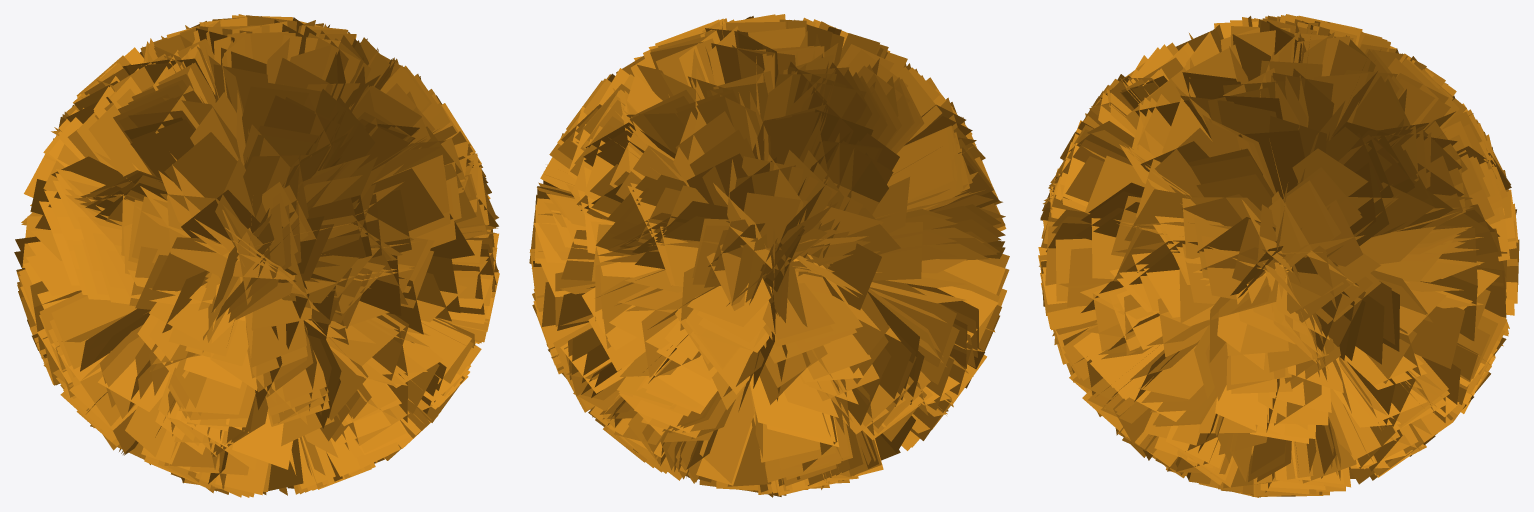
Rendered from testPipoUnity2.fbx.
3 views of the same model, side by side, from view 1: azimuth 30°, elevation 25°; view 2: azimuth 150°, elevation 25°; view 3: azimuth 270°, elevation 25° (orthographic).
Parts seen in each view (by area): view 1: Plane.001; view 2: Plane.001; view 3: Plane.001.
Part boxes in pixels (x1=…): Plane.001: x1=14, y1=14, x2=499, y2=497; Plane.001: x1=529, y1=14, x2=1009, y2=497; Plane.001: x1=1038, y1=14, x2=1519, y2=497.
Size of the model in its own units: 314 by 314 by 314.
